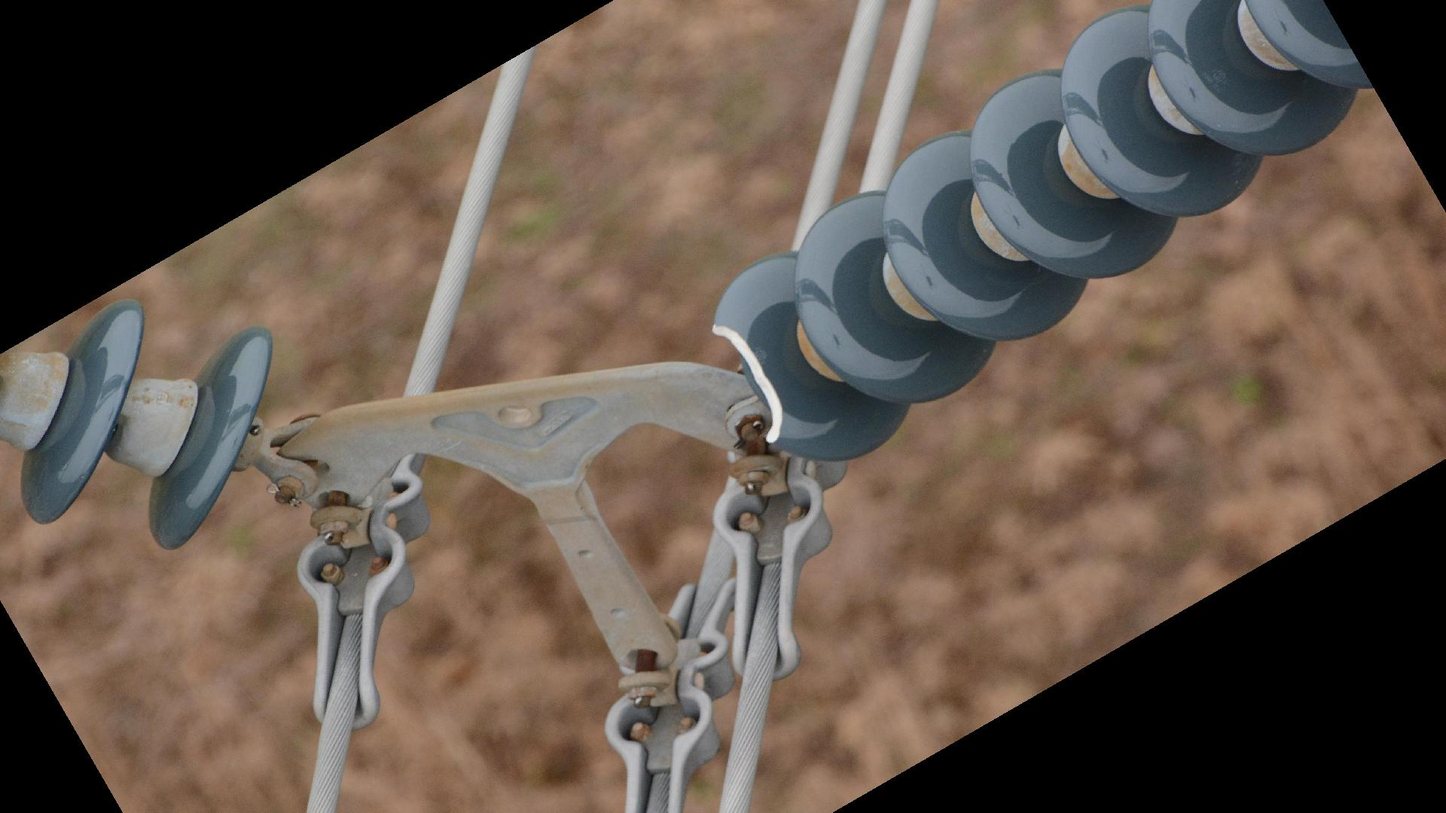insulator: (702, 1, 1374, 469), (1, 293, 285, 558)
insulator_breakage: (703, 315, 798, 454)
